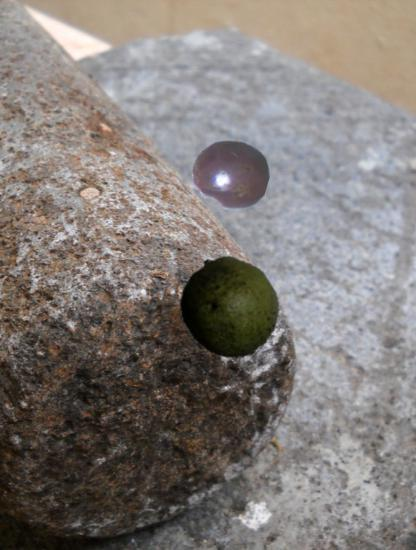Avocado: (177, 255, 282, 360)
Passion: (191, 135, 270, 214)
